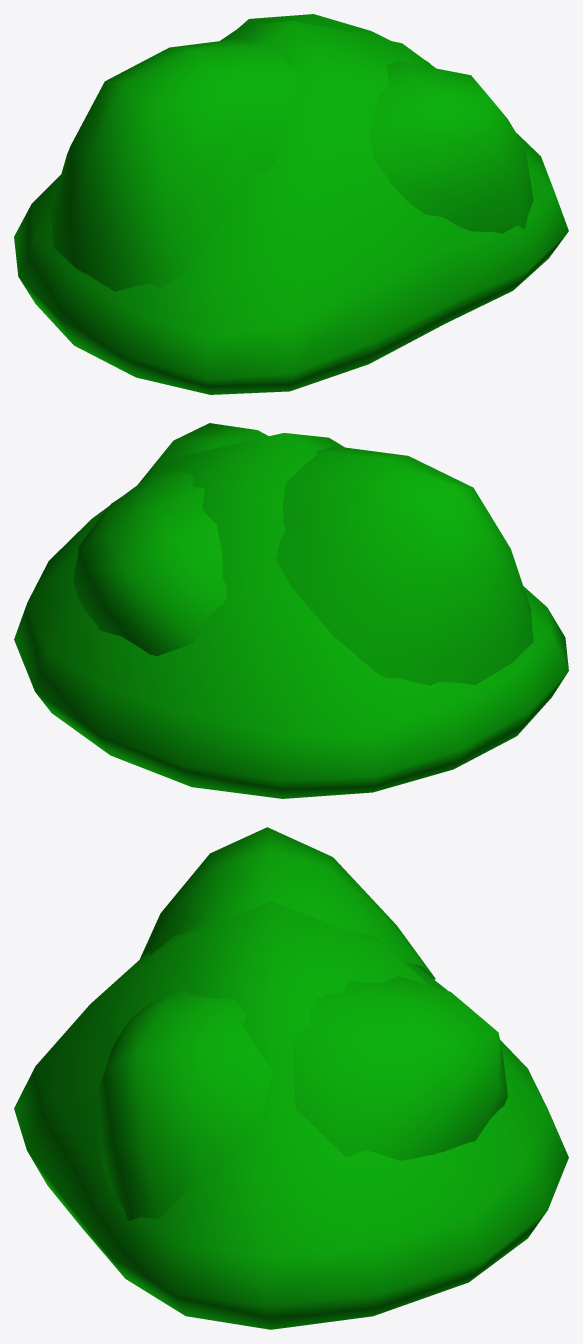
File: bush.fbx
The picture shows the model from 3 angles, top to bottom: view 1: azimuth 30°, elevation 25°; view 2: azimuth 150°, elevation 25°; view 3: azimuth 270°, elevation 25°; orthographic projection. The views are drawn at different scales.
Visible parts, largest first — view 1: bush_01; view 2: bush_01; view 3: bush_01.
Boxes of the visible parts, x1,y1,x2,y2 form: bush_01: (14, 14, 568, 394); bush_01: (14, 423, 568, 798); bush_01: (14, 827, 568, 1329).
Size of the model in its own units: 2.34 by 1.25 by 1.99.
